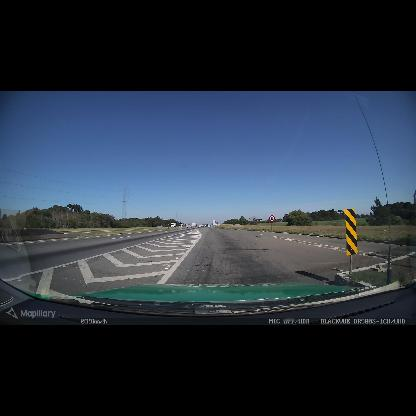O-MP: (344, 209, 357, 256)
R-6c: (269, 215, 275, 221)
